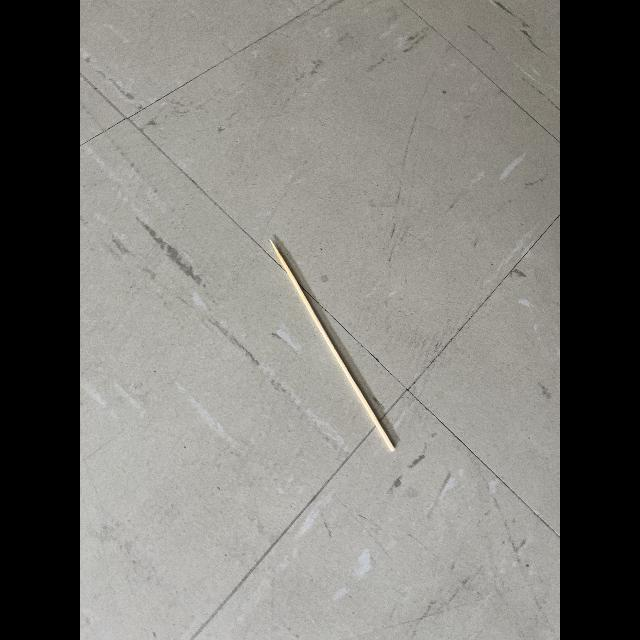stick: (264, 231, 401, 459)
